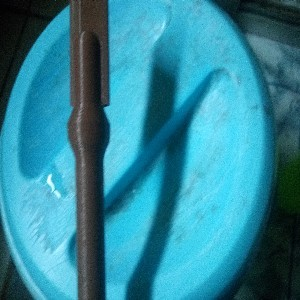cutter: (65, 1, 111, 300)
